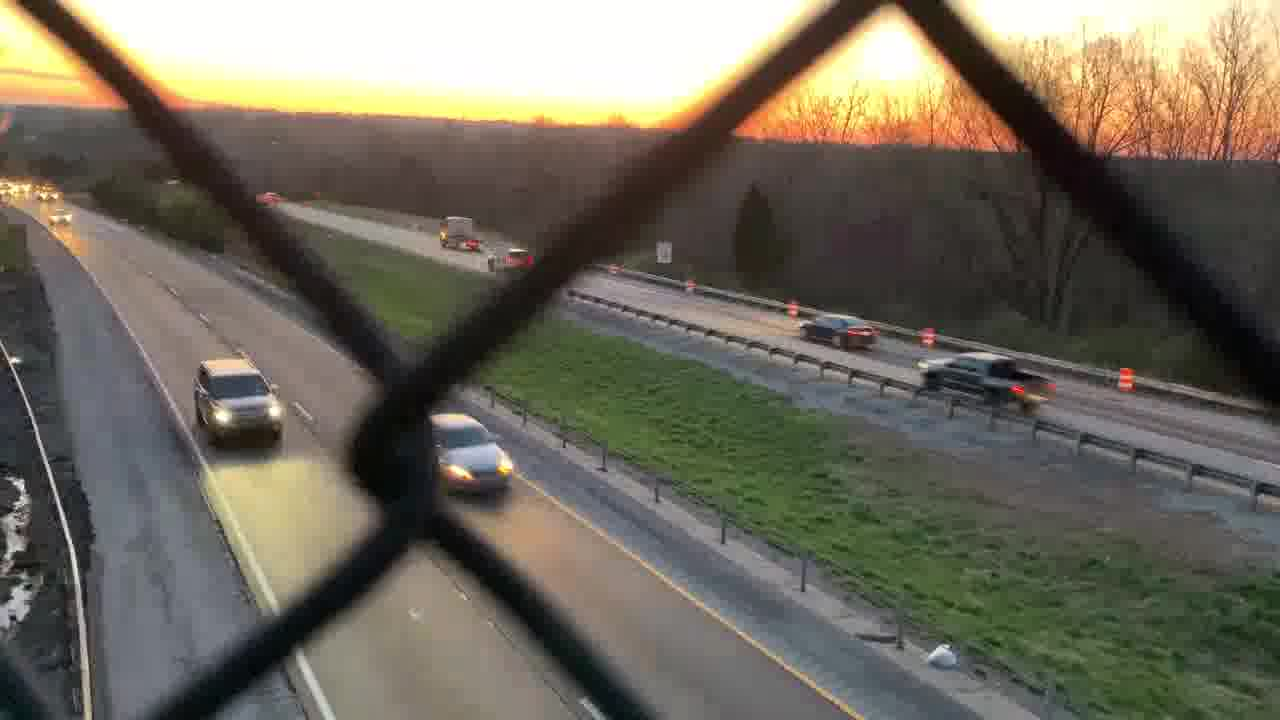heavyTruck: (433, 214, 490, 255)
largeCar: (194, 354, 281, 444)
lightTruck: (914, 344, 1056, 415)
smallCar: (428, 409, 515, 504), (797, 310, 877, 348)
vehicle: (42, 206, 80, 232)
